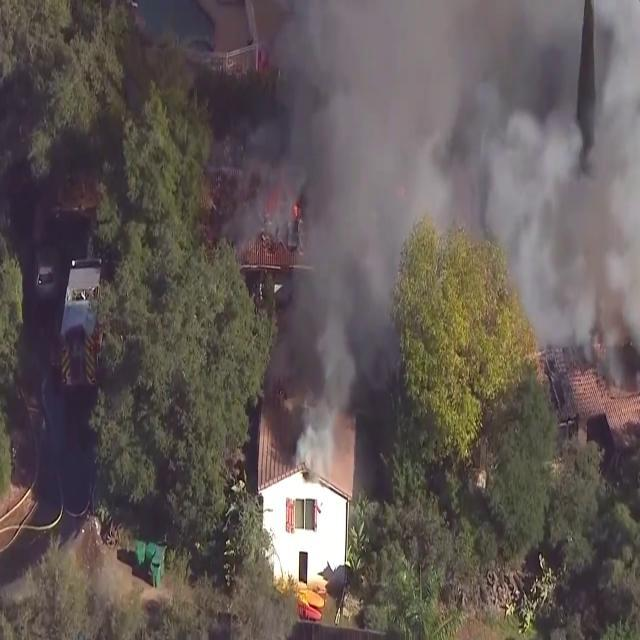Smoke: (246, 0, 640, 370)
